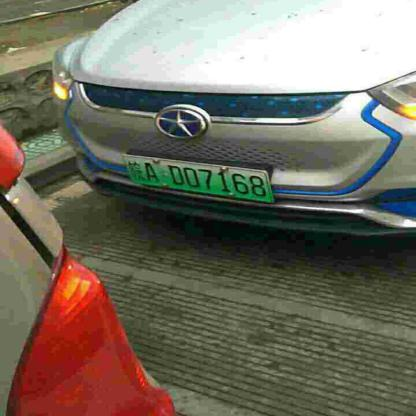lp: (122, 155, 273, 202)
